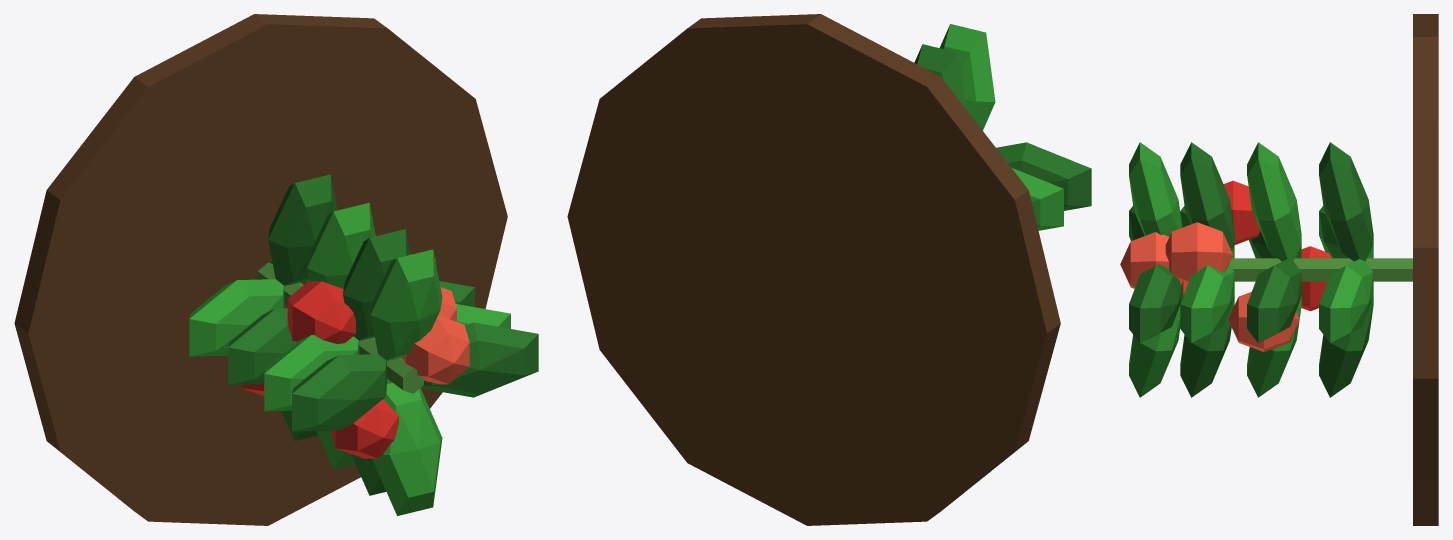
The model's file is stage_4.obj.
3 renders of one model, left to right at view 1: azimuth 30°, elevation 25°; view 2: azimuth 150°, elevation 25°; view 3: azimuth 270°, elevation 25°, orthographic. The views are drawn at different scales.
Parts seen in each view (by area): view 1: Tomato_Stage4; view 2: Tomato_Stage4; view 3: Tomato_Stage4.
Boxes of the visible parts, <box> form: Tomato_Stage4: <box>14,14,538,525</box>; Tomato_Stage4: <box>567,14,1091,525</box>; Tomato_Stage4: <box>1120,14,1438,525</box>.
Bounding box in the file's own units: 1 × 1 × 0.62.
